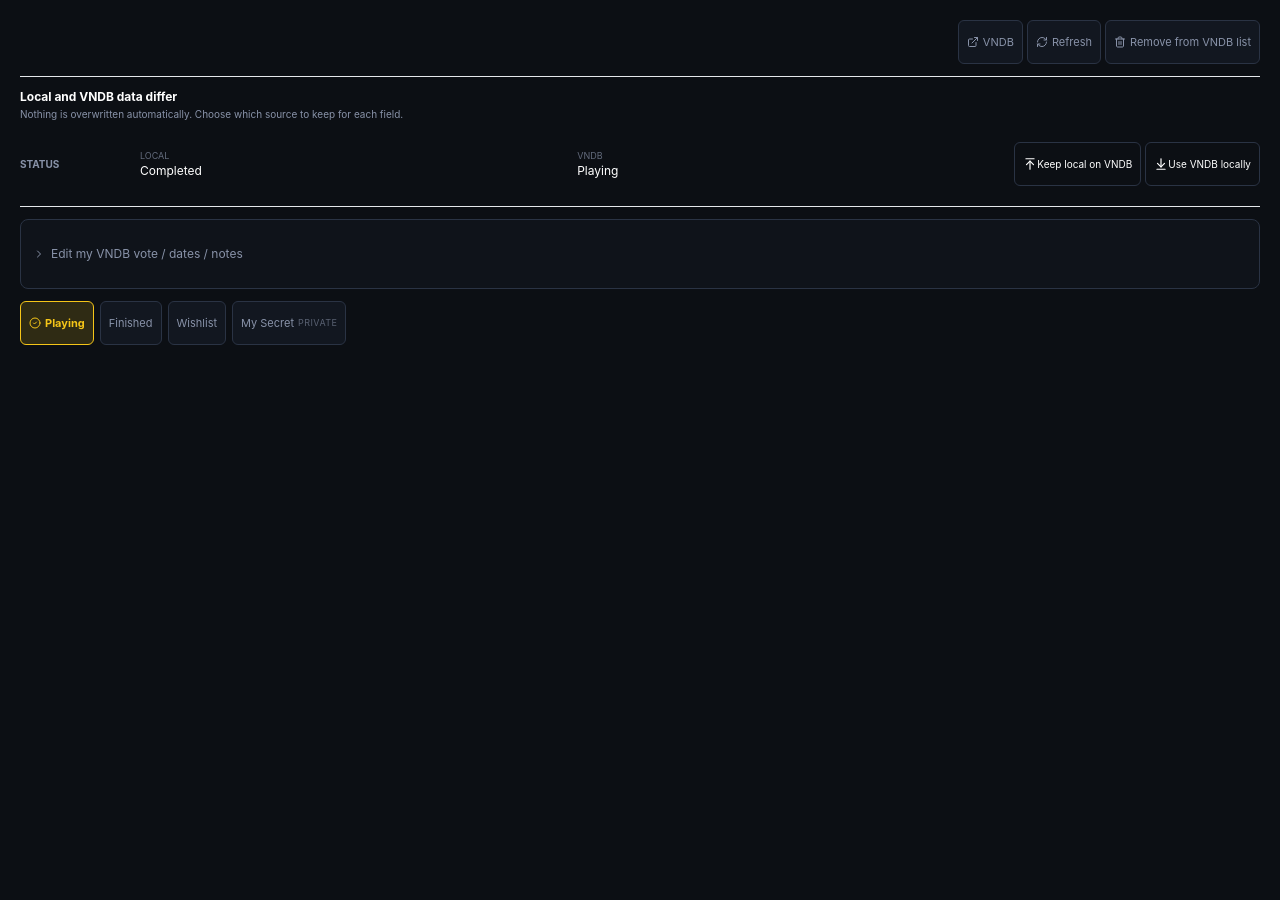
Test: VndbStatusPanel branches › surfaces a localized stale-preview failure and reloads the conflict values
Step 1. Click the button "Keep local on VNDB" → x=1078, y=164, box [1014,142,1141,186]
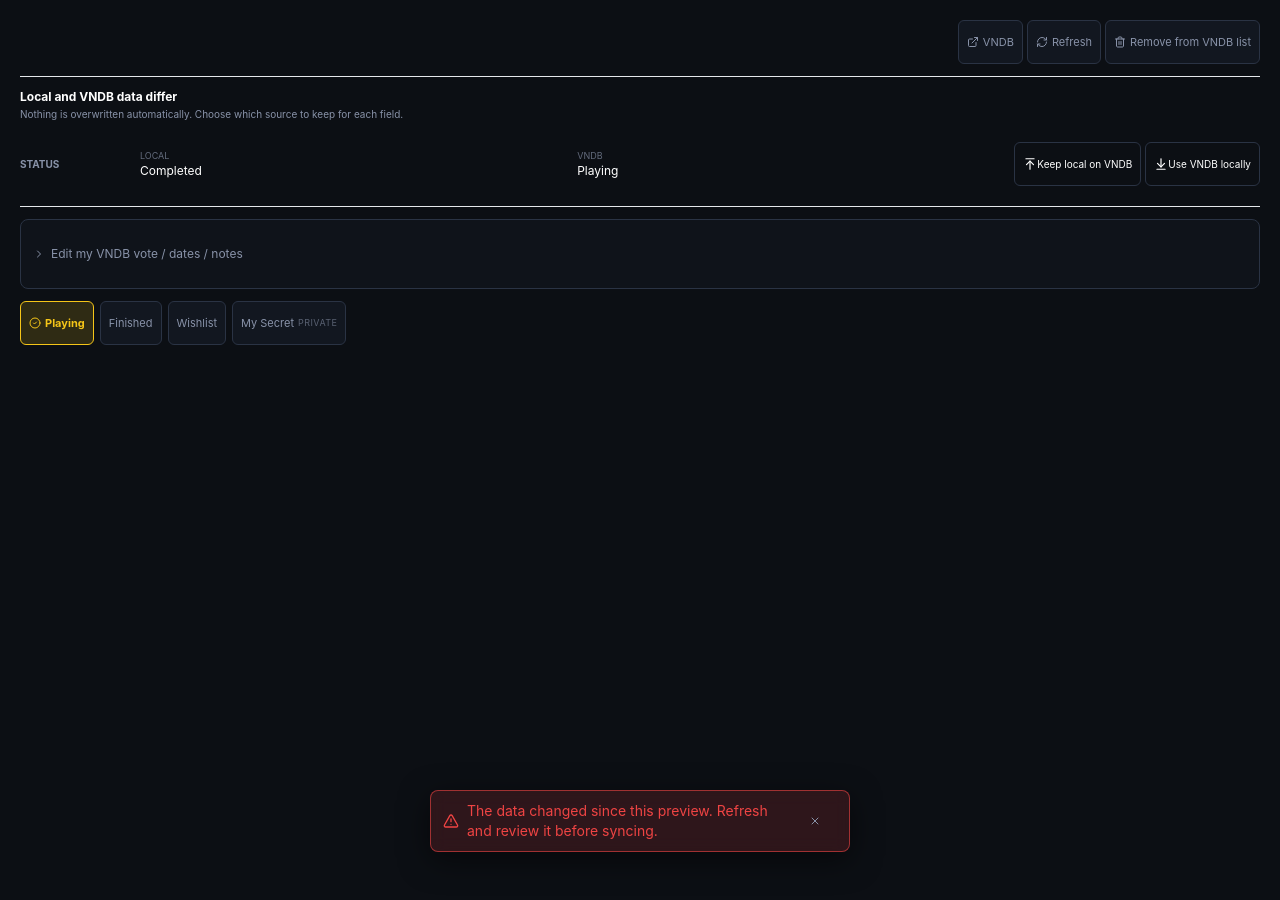
Check: the text "The data changed since this preview. Refresh and review it before syncing." is shown, box [467,801,781,841]
